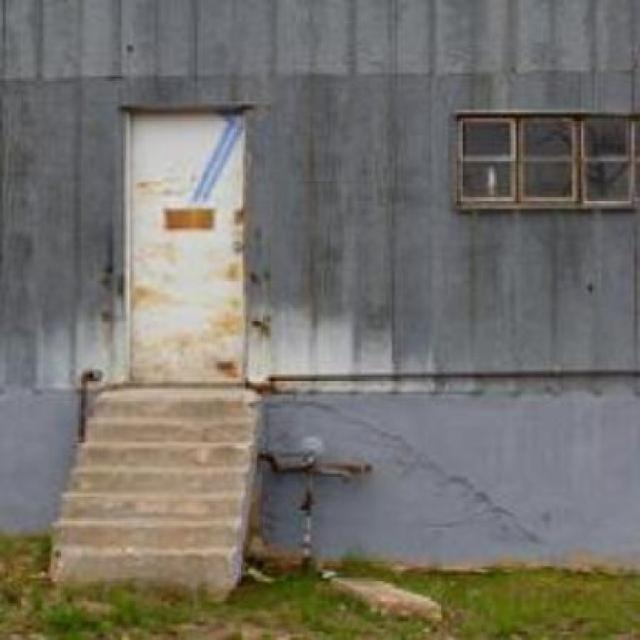stair: (42, 376, 280, 609)
